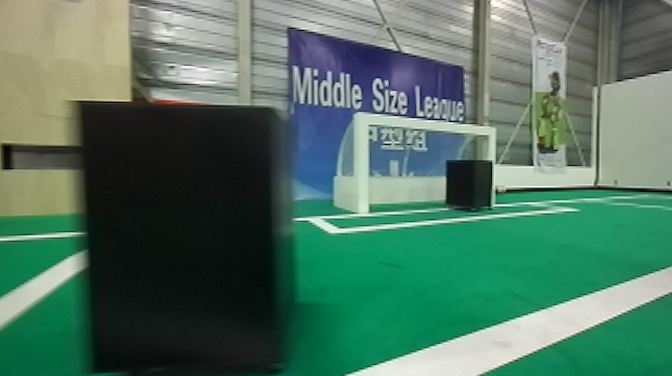ball: (494, 180, 508, 196)
goalpost: (354, 109, 372, 217), (479, 124, 497, 163)
